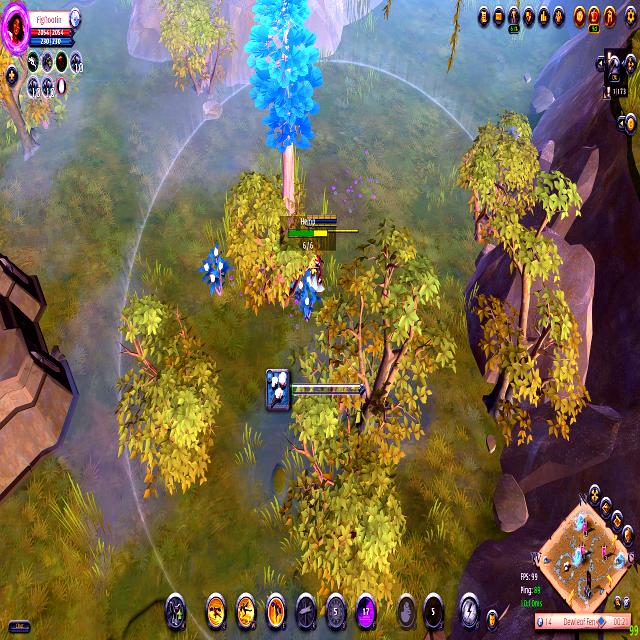hide: (197, 241, 235, 306), (288, 260, 322, 324)
red: (302, 206, 338, 300)
wisp caged: (237, 0, 328, 227)
